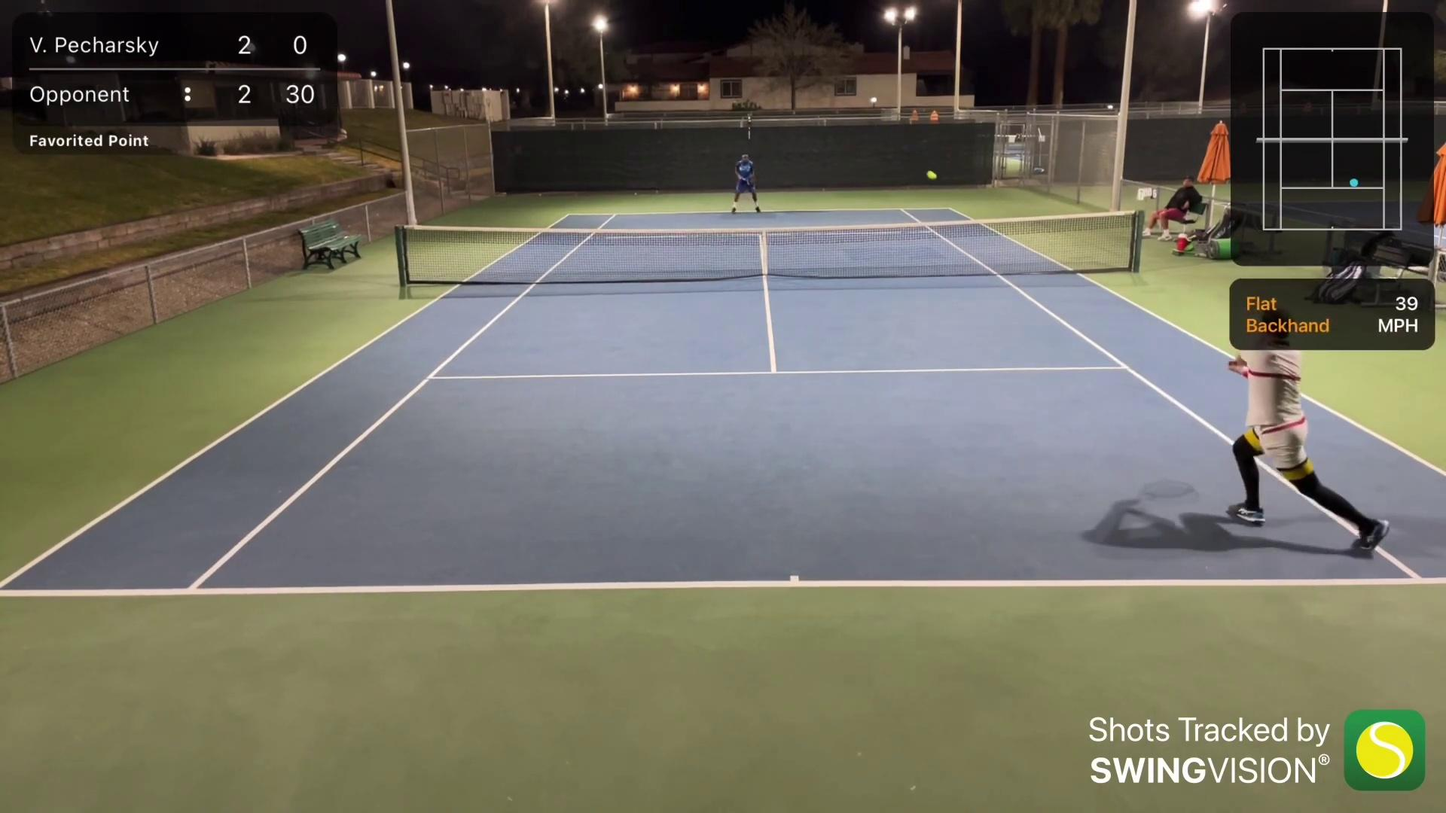ball: (924, 169, 942, 184)
